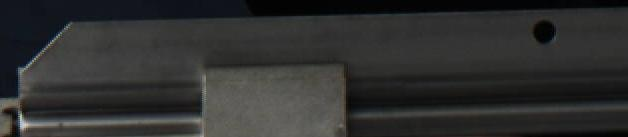cut: (13, 14, 164, 137)
holes: (530, 17, 558, 44)
